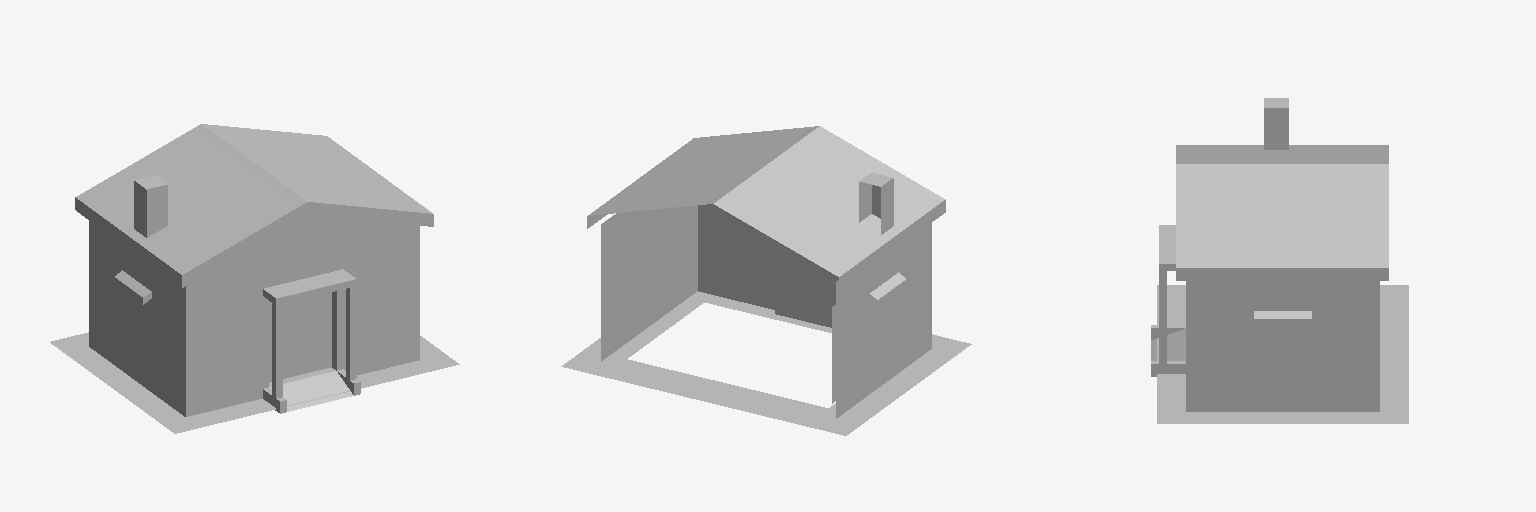
File: Cool House 1.obj
The picture shows the model from 3 angles: view 1: azimuth 30°, elevation 25°; view 2: azimuth 150°, elevation 25°; view 3: azimuth 270°, elevation 25°; orthographic projection.
Visible parts, largest first — view 1: polygon10.025, polygon5.048, polygon9.029, polygon7.036, polygon1.127, polygon0.130, polygon8.035, polygon6.040, polygon2.100, polygon3.062; view 2: polygon5.048, polygon4.053, polygon10.025, polygon1.127, polygon9.029, polygon7.036, polygon8.035, polygon3.062; view 3: polygon5.048, polygon10.025, polygon1.127, polygon9.029, polygon7.036, polygon8.035, polygon3.062, polygon6.040, polygon2.100.
Part boxes in pixels (x1,y1,x2,y2): polygon10.025: (89,215,419,407); polygon5.048: (76,125,432,298); polygon9.029: (75,124,433,305); polygon7.036: (123,175,394,369); polygon1.127: (50,332,459,433); polygon0.130: (269,292,331,381); polygon8.035: (89,337,419,416); polygon6.040: (272,286,356,398); polygon2.100: (269,367,353,411); polygon3.062: (115,272,158,355); polygon5.048: (588,127,945,299); polygon4.053: (604,204,838,403); polygon10.025: (601,204,931,408); polygon1.127: (561,291,971,435); polygon9.029: (587,126,945,306); polygon7.036: (859,173,898,352); polygon8.035: (601,282,931,418); polygon3.062: (862,274,905,357); polygon5.048: (1159,145,1388,318); polygon10.025: (1186,281,1379,401); polygon1.127: (1157,285,1408,423); polygon9.029: (1159,163,1388,325); polygon7.036: (1254,98,1311,369); polygon8.035: (1151,325,1379,411); polygon3.062: (1238,318,1326,369); polygon6.040: (1159,271,1166,363); polygon2.100: (1151,328,1185,360).
Size of the model in its own units: 17 by 11.5 by 13.3.